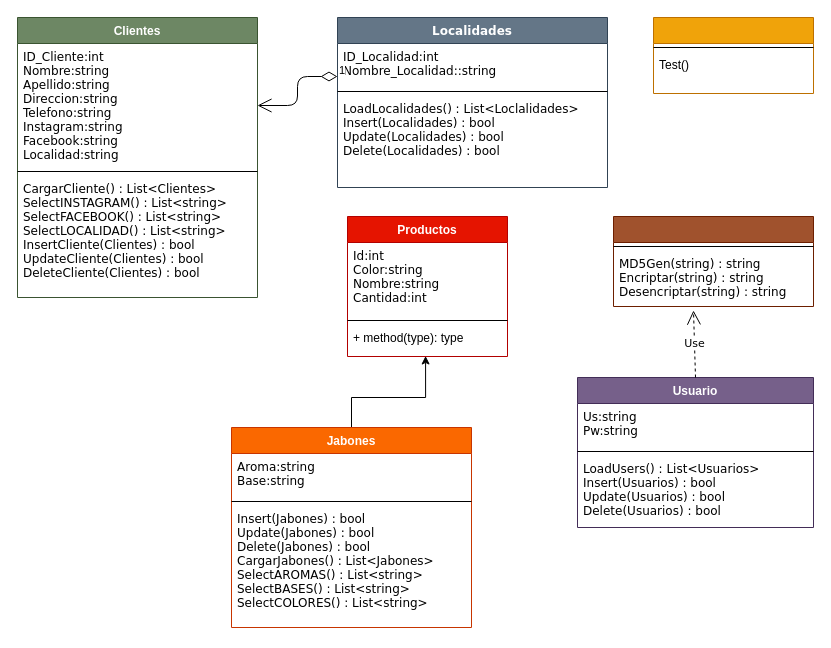
Some shapes in this 831 by 648 pixel diagram are drawn without their labels. Here are the shapes that lost their labels. From the top down, the box of each, then its label:
(652, 16, 814, 94): TestConnection
(612, 216, 814, 306): Cripter
